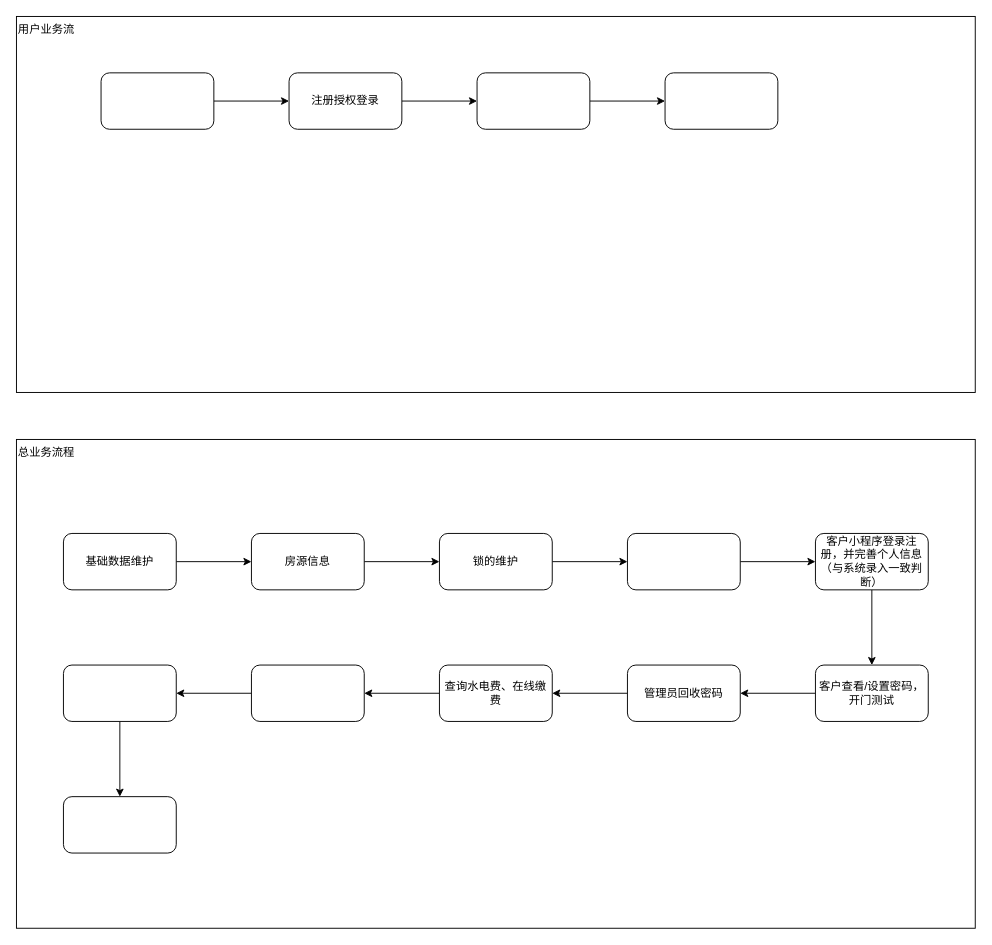
Some shapes in this 992 by 945 pixel diagram are drawn without their labels. Each missing label, with the centre of its shape:
交租: the point at 307,692
包月车位: the point at 119,692
完善租房者真实姓名信息，系统自动核对。: the point at 533,100
客户信息登录（姓名，手机号码等）: the point at 683,561
用户: the point at 157,100
